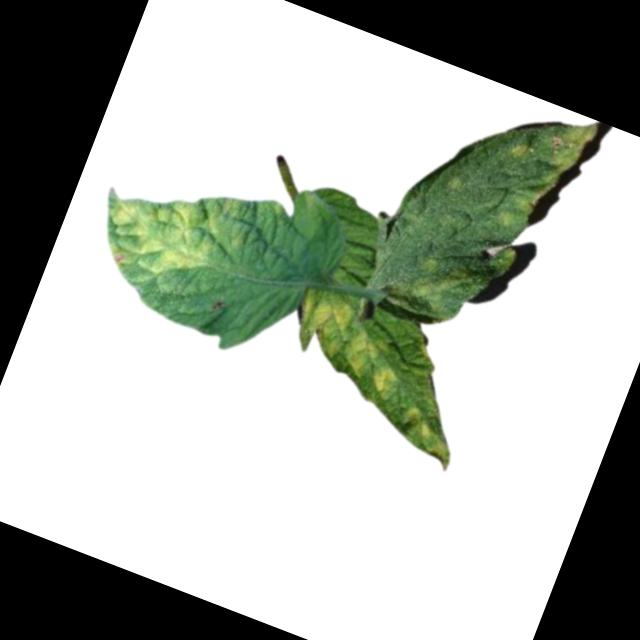Leaf_Mold: (78, 150, 254, 315), (484, 95, 603, 243), (279, 281, 420, 404), (387, 400, 465, 470)
